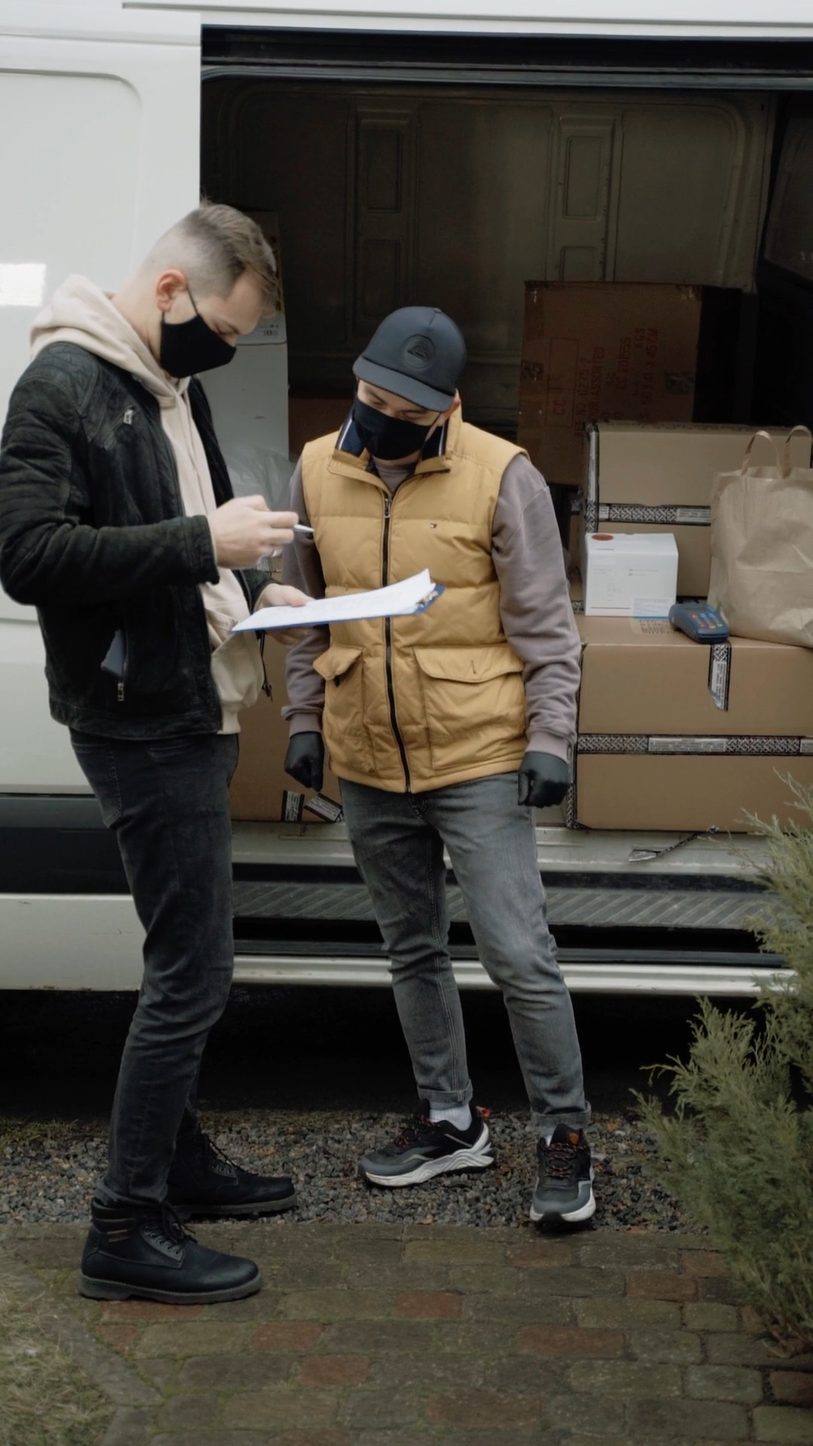No-gloves: (193, 485, 322, 583)
gloves: (507, 740, 580, 816), (284, 723, 347, 800)
